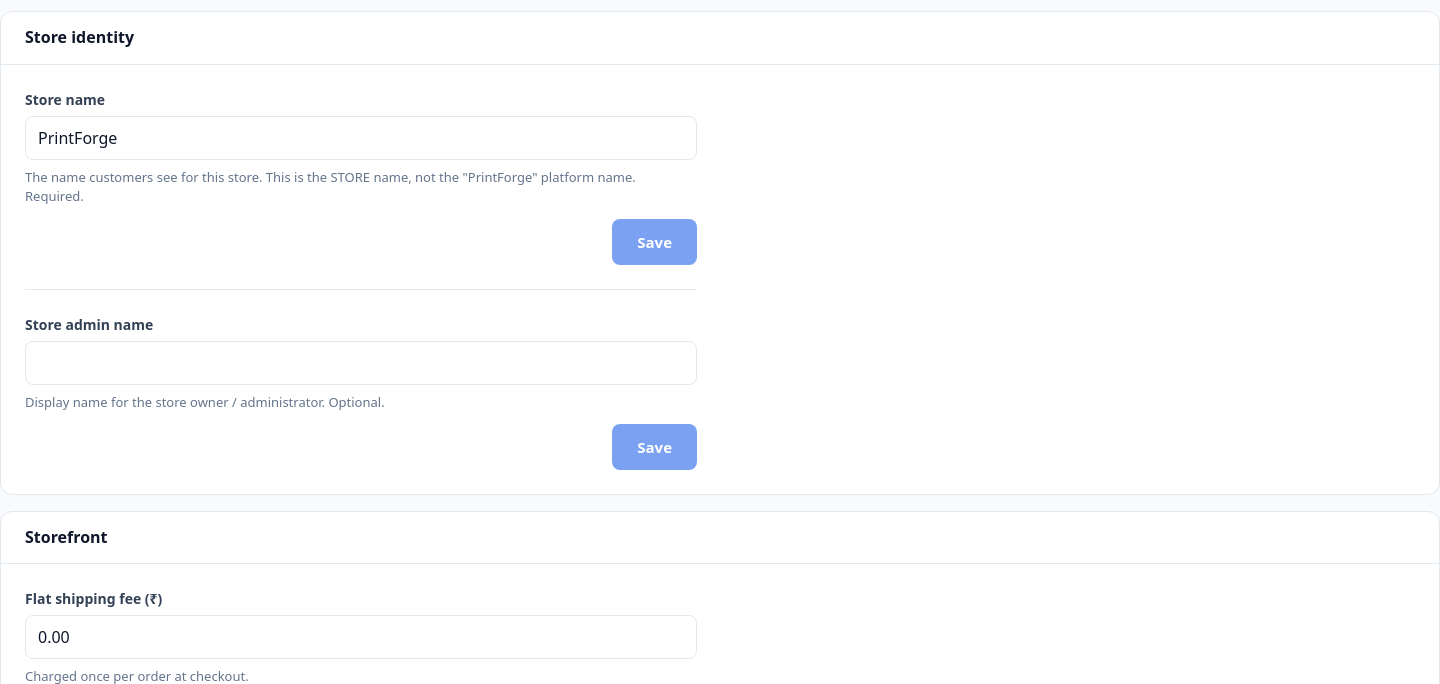
it: AdminSettingsPage › PATCHes a valid fee and only then shows a real "Saved" confirmation
Replace the text in the field labelled "Flat shipping fee (₹)" with "49" at (361, 637), box [25,615,697,659]
(page scrolled)
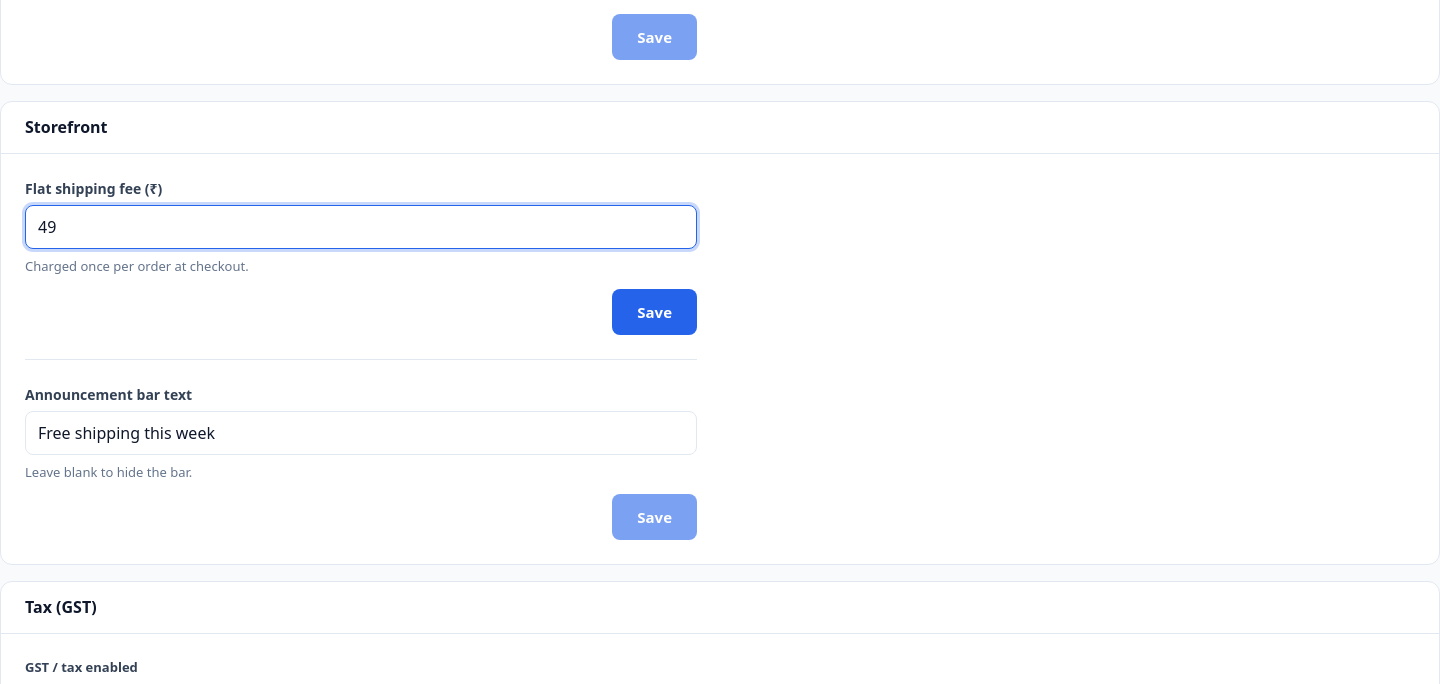
Check: the text "saved" is not shown
Click the 2nd button "Save".
click(655, 312)  # box [612,289,697,335]
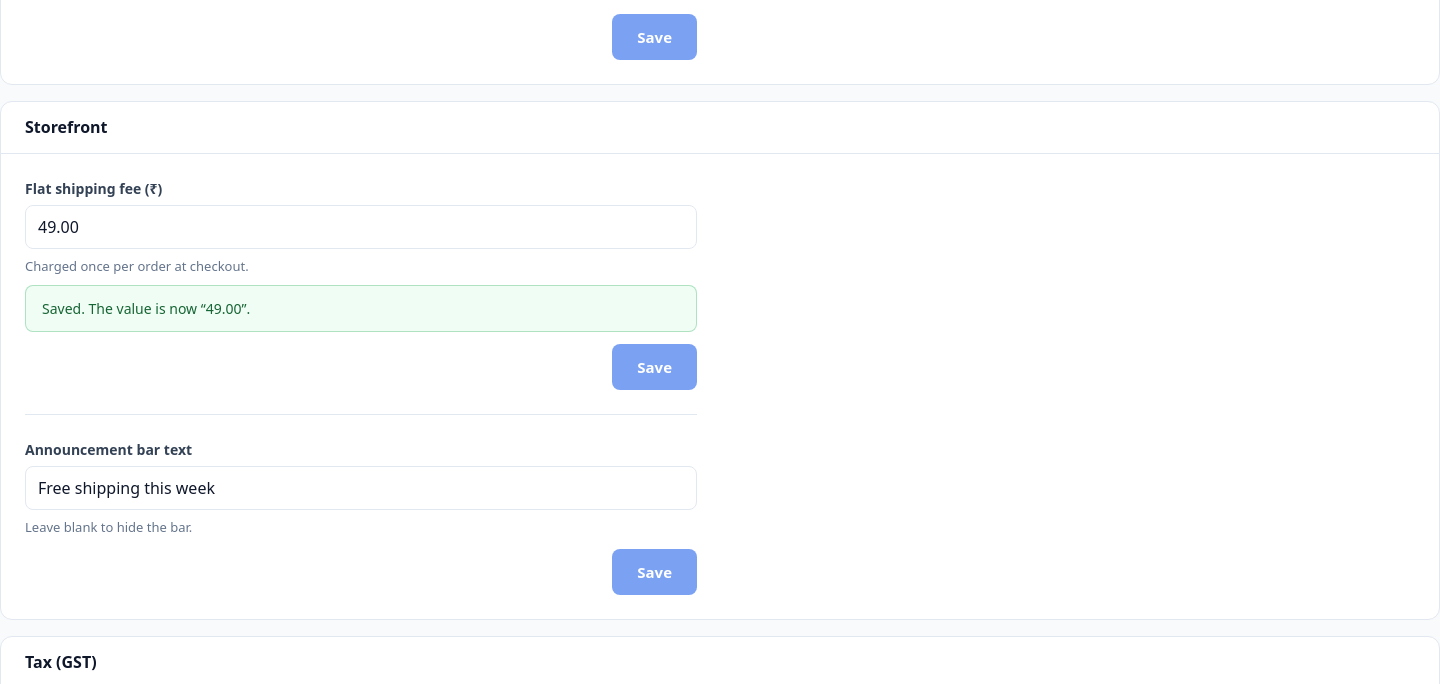
Check: the text "Saved. The value is now “49.00”." is shown, box [25,285,697,332]
